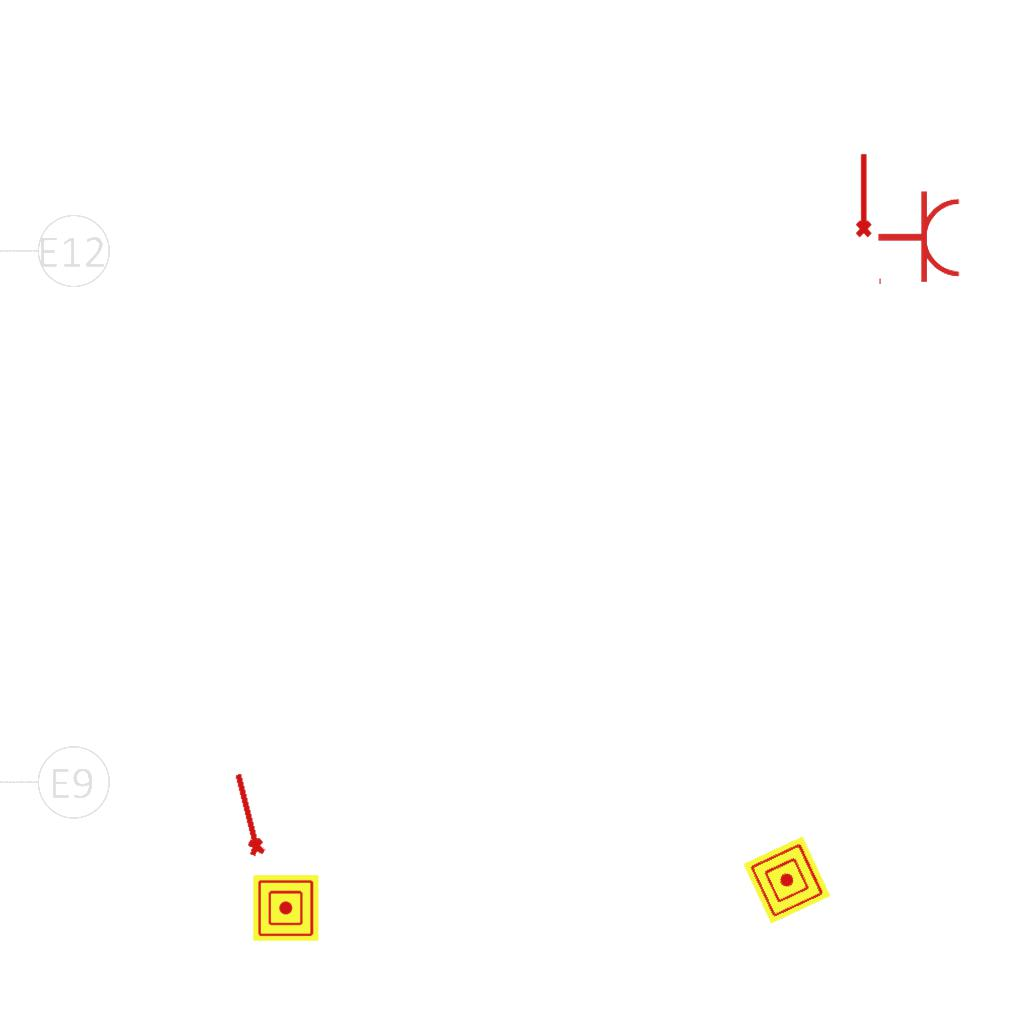ASR_Ansaugoeffnung: (225, 769, 269, 860), (851, 151, 874, 239)
NAM-Nichtautomatischer_Melder: (743, 836, 831, 924), (253, 875, 319, 941)
Schukosteckdose_einfach: (876, 189, 963, 289)
